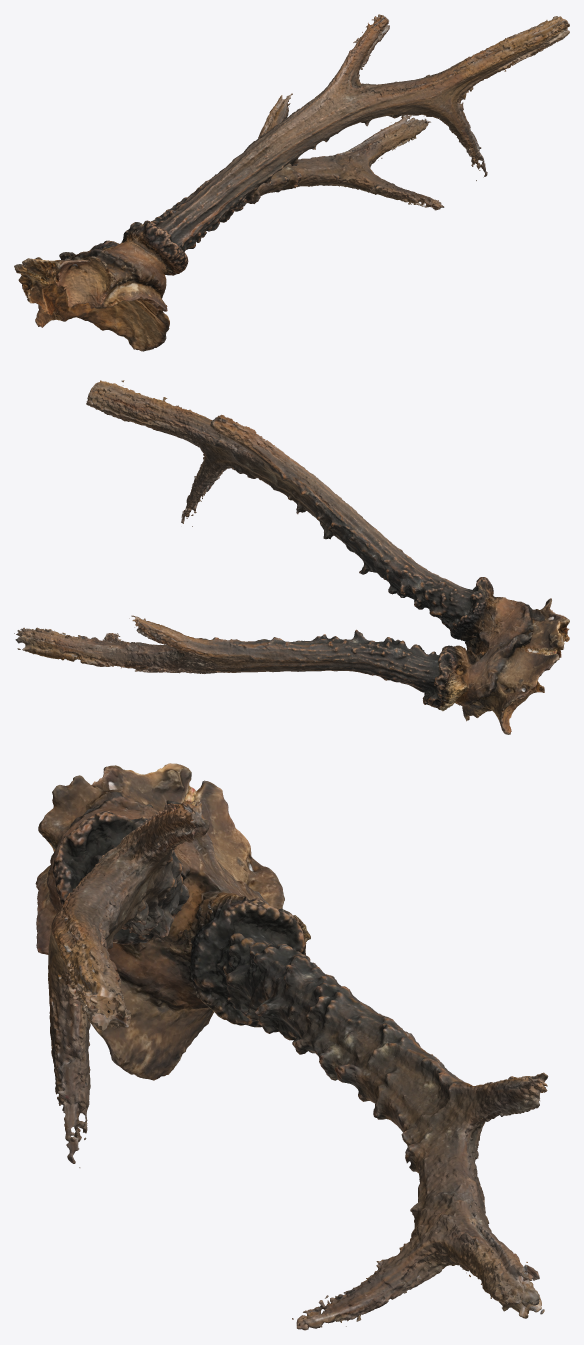
Rendered from MZUR3D-021.glb.
The picture shows the model from 3 angles, top to bottom: view 1: azimuth 30°, elevation 25°; view 2: azimuth 150°, elevation 25°; view 3: azimuth 270°, elevation 25°; orthographic projection. The views are drawn at different scales.
Parts seen in each view (by area): view 1: Corna_cervo; view 2: Corna_cervo; view 3: Corna_cervo.
Part boxes in pixels (box(x1,y1,x2,y2)): Corna_cervo: box(14, 14, 569, 351); Corna_cervo: box(14, 380, 569, 734); Corna_cervo: box(35, 763, 548, 1330).
Bounding box in the file's own units: 9.89 × 4.82 × 4.43.
Materials: 1 (1 with a texture image).
